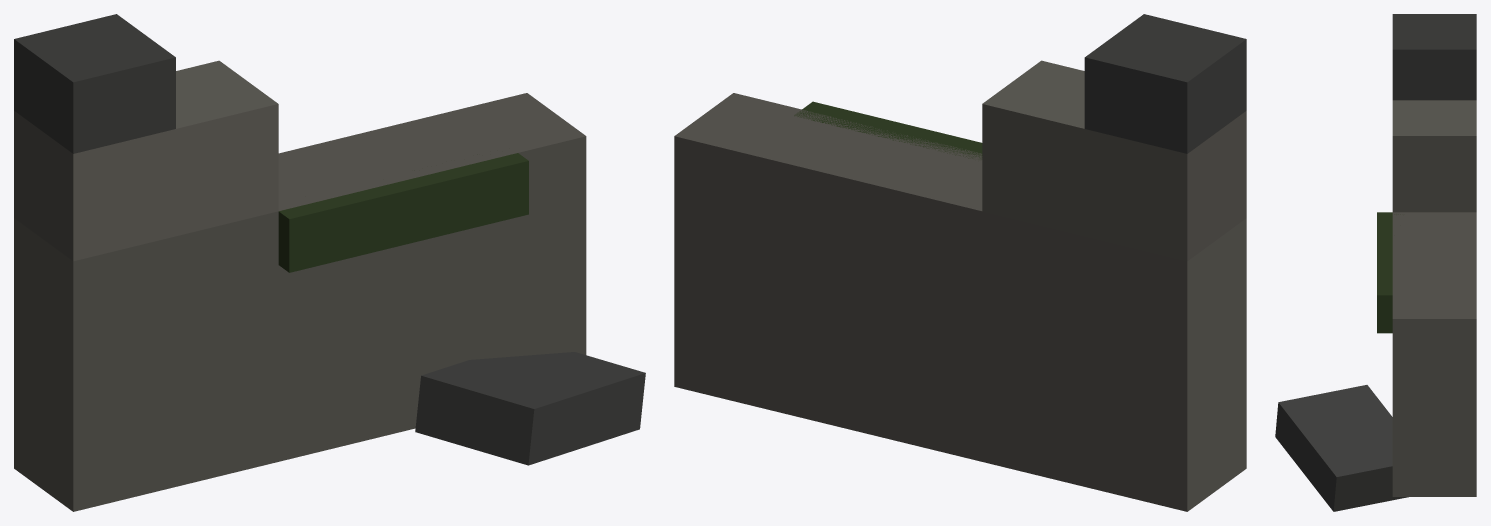
File: ruin_wall.glb
3 views of the same model, side by side, from view 1: azimuth 30°, elevation 25°; view 2: azimuth 150°, elevation 25°; view 3: azimuth 270°, elevation 25° (orthographic). The views are drawn at different scales.
Parts seen in each view (by area): view 1: RuinWall; view 2: RuinWall; view 3: RuinWall.
Boxes of the visible parts, x1=… form: RuinWall: x1=14, y1=14, x2=645, y2=511; RuinWall: x1=674, y1=14, x2=1246, y2=511; RuinWall: x1=1275, y1=14, x2=1476, y2=511.
Bounding box in the file's own units: 3.12 × 2.48 × 1.44.
